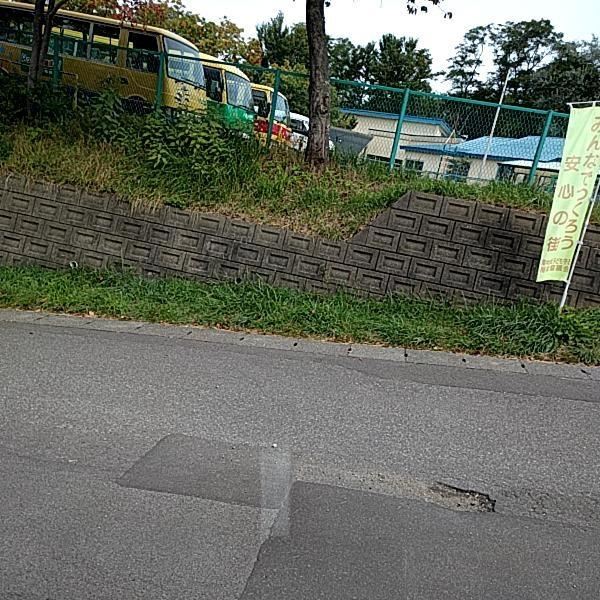pothole: (432, 484, 498, 512)
